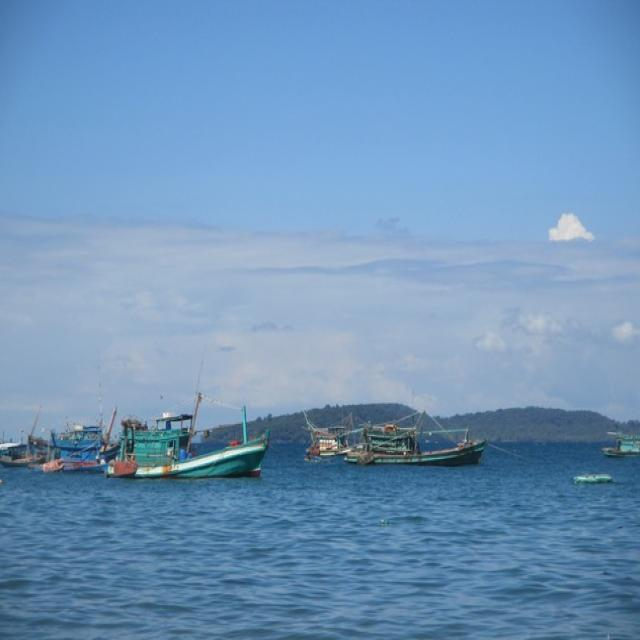fishing boat: (108, 404, 269, 482), (346, 405, 481, 470)
